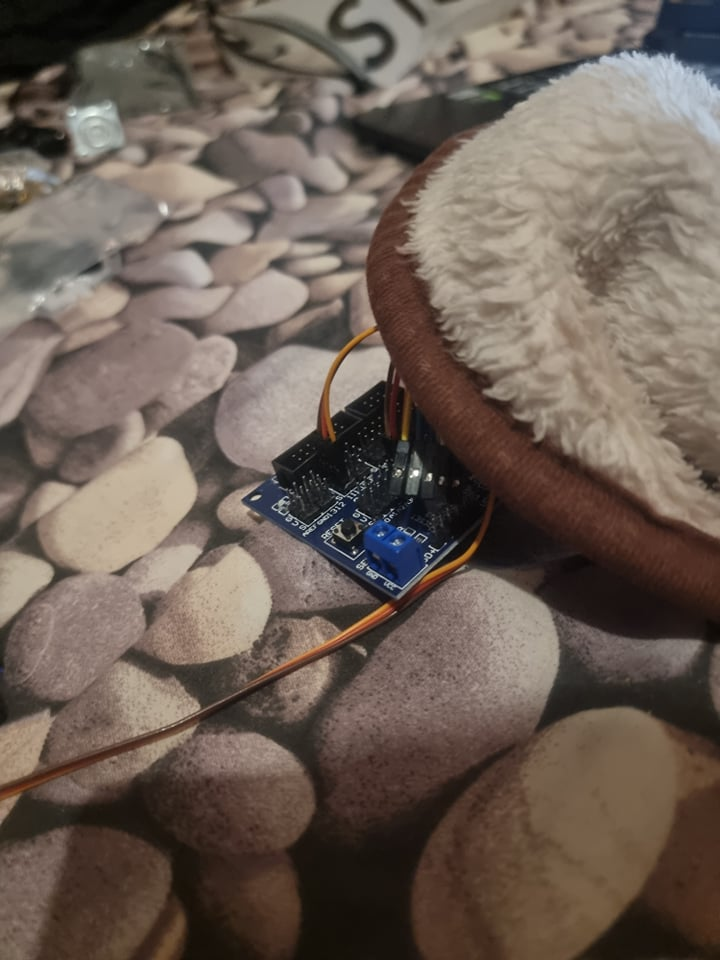5V EXPANSION: (239, 379, 499, 606)
